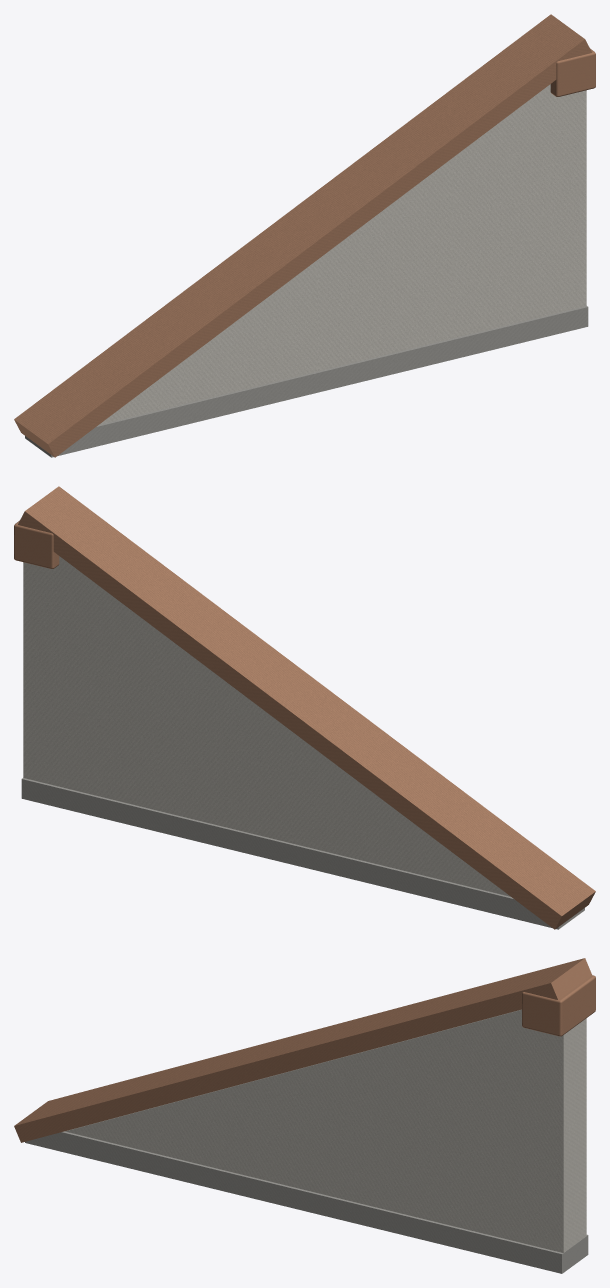
File: tactical-shooter-hill-town-roof-gable-half-b2841bcd__27519.glb
3 views of the same model, one above another, from view 1: azimuth 30°, elevation 25°; view 2: azimuth 150°, elevation 25°; view 3: azimuth 330°, elevation 25° (orthographic).
Visible parts, largest first — view 1: roof-gable-half; view 2: roof-gable-half; view 3: roof-gable-half.
Boxes of the visible parts, <box> form: roof-gable-half: <box>14,14,595,457</box>; roof-gable-half: <box>14,486,595,929</box>; roof-gable-half: <box>14,958,595,1273</box>.
Bounding box in the file's own units: 4.08 × 2.08 × 0.46.
3 materials, 3 textured.
